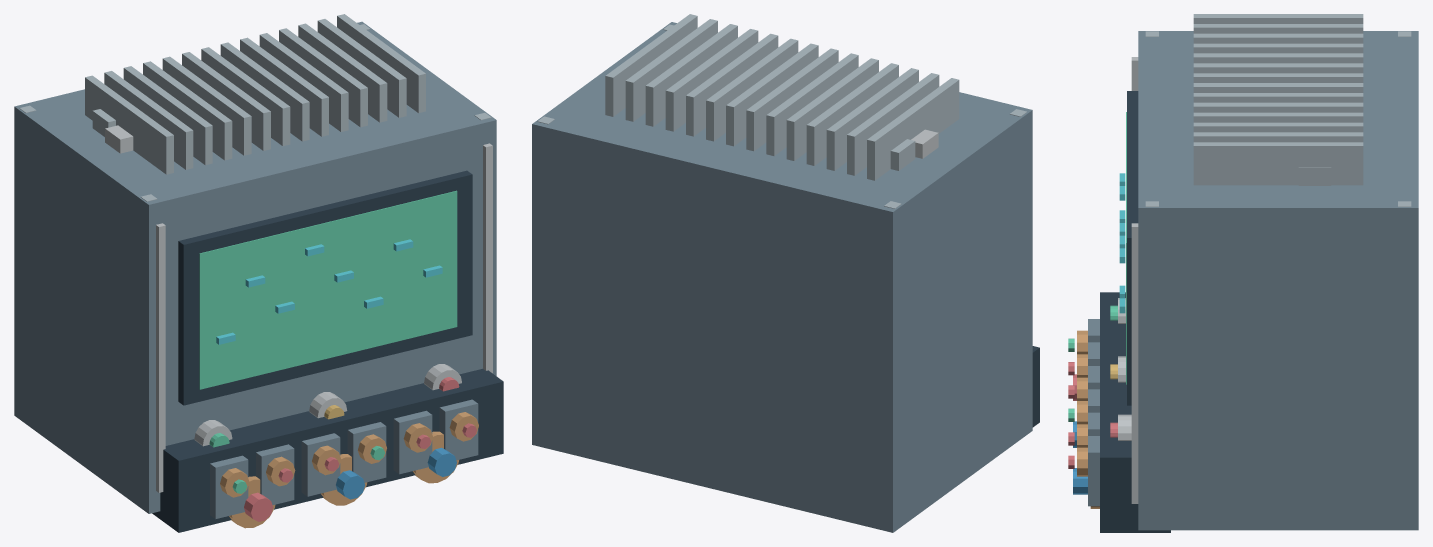
Rendered from 55_L74_Regulated5VControlSupply.glb.
3 views of the same model, side by side, from view 1: azimuth 30°, elevation 25°; view 2: azimuth 150°, elevation 25°; view 3: azimuth 270°, elevation 25° (orthographic). The views are drawn at different scales.
Visible parts, largest first — view 1: Regulated5VControlSupply_Node_0000, Regulated5VControlSupply_Node_0008, Regulated5VControlSupply_Node_0036, Regulated5VControlSupply_Node_0007, Regulated5VControlSupply_Node_0061, Regulated5VControlSupply_Node_0005, Regulated5VControlSupply_Node_0006, Regulated5VControlSupply_Node_0064, Regulated5VControlSupply_Node_0068, Regulated5VControlSupply_Node_0070, Regulated5VControlSupply_Node_0063, Regulated5VControlSupply_Node_0065 (+22 smaller); view 2: Regulated5VControlSupply_Node_0000, Regulated5VControlSupply_Node_0061, Regulated5VControlSupply_Node_0071, Regulated5VControlSupply_Node_0063, Regulated5VControlSupply_Node_0067, Regulated5VControlSupply_Node_0065, Regulated5VControlSupply_Node_0064, Regulated5VControlSupply_Node_0066, Regulated5VControlSupply_Node_0068, Regulated5VControlSupply_Node_0073, Regulated5VControlSupply_Node_0072, Regulated5VControlSupply_Node_0074 (+5 smaller); view 3: Regulated5VControlSupply_Node_0000, Regulated5VControlSupply_Node_0074, Regulated5VControlSupply_Node_0036, Regulated5VControlSupply_Node_0007, Regulated5VControlSupply_Node_0006, Regulated5VControlSupply_Node_0063, Regulated5VControlSupply_Node_0065, Regulated5VControlSupply_Node_0066, Regulated5VControlSupply_Node_0070, Regulated5VControlSupply_Node_0071, Regulated5VControlSupply_Node_0073, Regulated5VControlSupply_Node_0064 (+8 smaller).
Boxes of the visible parts, x1,y1,x2,y2 form: Regulated5VControlSupply_Node_0000: [14, 21, 496, 513]; Regulated5VControlSupply_Node_0008: [199, 190, 457, 389]; Regulated5VControlSupply_Node_0036: [152, 368, 503, 532]; Regulated5VControlSupply_Node_0007: [178, 170, 472, 405]; Regulated5VControlSupply_Node_0061: [85, 75, 173, 174]; Regulated5VControlSupply_Node_0005: [156, 223, 165, 492]; Regulated5VControlSupply_Node_0006: [483, 143, 492, 373]; Regulated5VControlSupply_Node_0064: [143, 61, 232, 160]; Regulated5VControlSupply_Node_0068: [220, 42, 309, 141]; Regulated5VControlSupply_Node_0070: [259, 33, 348, 131]; Regulated5VControlSupply_Node_0063: [123, 66, 212, 165]; Regulated5VControlSupply_Node_0065: [162, 56, 251, 155]; Regulated5VControlSupply_Node_0000: [532, 22, 1032, 532]; Regulated5VControlSupply_Node_0061: [867, 78, 959, 180]; Regulated5VControlSupply_Node_0071: [665, 29, 758, 131]; Regulated5VControlSupply_Node_0063: [826, 68, 918, 170]; Regulated5VControlSupply_Node_0067: [746, 48, 838, 151]; Regulated5VControlSupply_Node_0065: [786, 58, 878, 160]; Regulated5VControlSupply_Node_0064: [806, 63, 898, 165]; Regulated5VControlSupply_Node_0066: [766, 53, 858, 155]; Regulated5VControlSupply_Node_0068: [726, 43, 818, 146]; Regulated5VControlSupply_Node_0073: [625, 19, 717, 121]; Regulated5VControlSupply_Node_0072: [645, 24, 737, 126]; Regulated5VControlSupply_Node_0074: [605, 14, 697, 116]; Regulated5VControlSupply_Node_0000: [1138, 31, 1418, 530]; Regulated5VControlSupply_Node_0074: [1193, 142, 1363, 185]; Regulated5VControlSupply_Node_0036: [1100, 292, 1170, 532]; Regulated5VControlSupply_Node_0007: [1127, 91, 1138, 405]; Regulated5VControlSupply_Node_0006: [1131, 223, 1138, 503]; Regulated5VControlSupply_Node_0063: [1193, 33, 1363, 43]; Regulated5VControlSupply_Node_0065: [1193, 53, 1363, 63]; Regulated5VControlSupply_Node_0066: [1193, 63, 1363, 73]; Regulated5VControlSupply_Node_0070: [1193, 102, 1363, 112]; Regulated5VControlSupply_Node_0071: [1193, 112, 1363, 122]; Regulated5VControlSupply_Node_0073: [1193, 132, 1363, 142]; Regulated5VControlSupply_Node_0064: [1193, 43, 1363, 53].
Size of the model in its own units: 1.06 by 1.06 by 0.8871.
